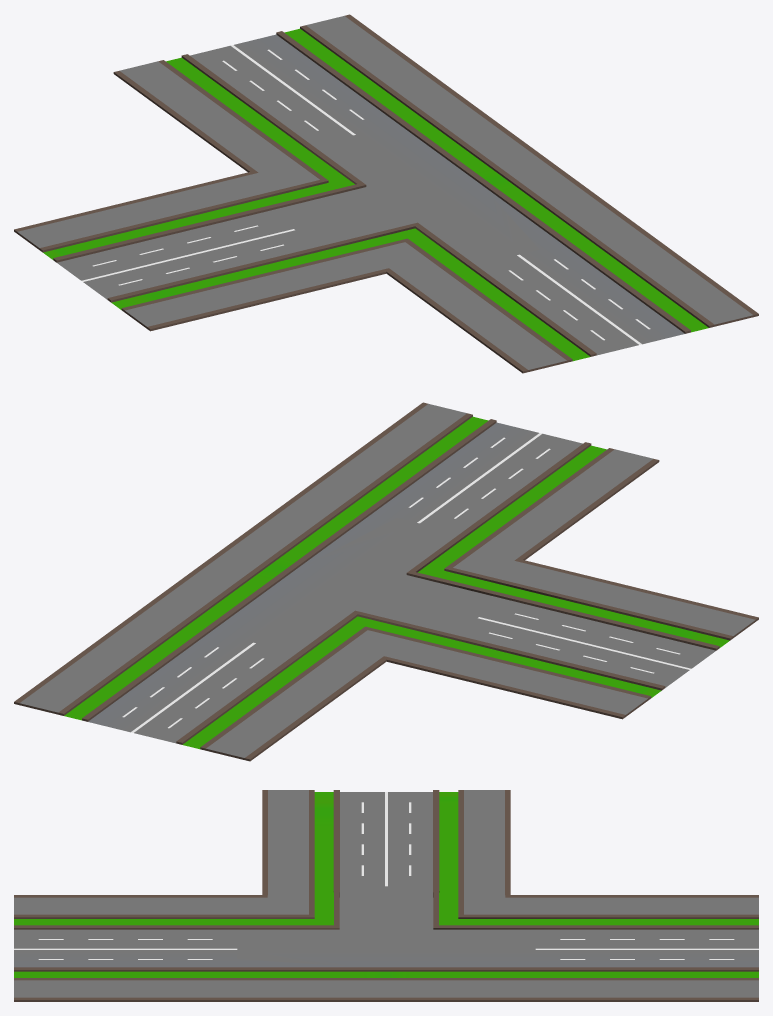
File: SM_Road_P5.fbx
3 views of the same model, one above another, from view 1: azimuth 30°, elevation 25°; view 2: azimuth 150°, elevation 25°; view 3: azimuth 270°, elevation 25° (orthographic). The views are drawn at different scales.
Parts seen in each view (by area): view 1: SM_Road_P5; view 2: SM_Road_P5; view 3: SM_Road_P5.
Boxes of the visible parts, left/top/right/bottom form: SM_Road_P5: left=14, top=14, right=758, bottom=373; SM_Road_P5: left=14, top=402, right=758, bottom=761; SM_Road_P5: left=14, top=790, right=758, bottom=1001.
Bounding box in the file's own units: 720001 × 2992 × 1080001.
